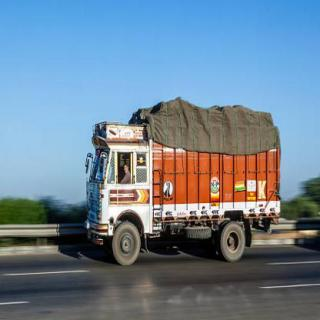Normal_vehicle: (78, 96, 284, 266)
